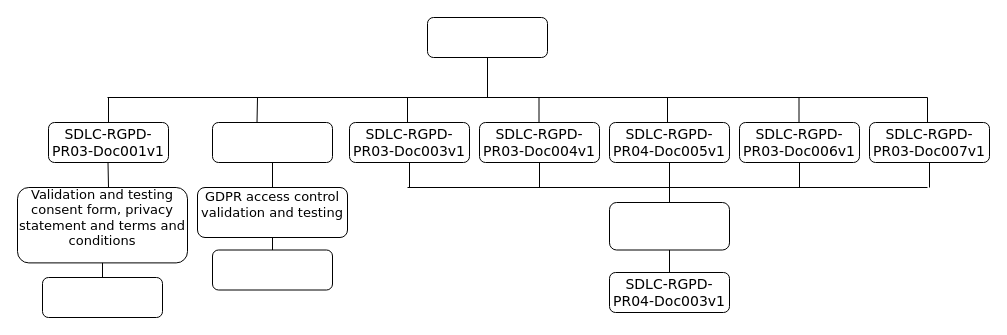
Some shapes in this 1007 by 335 pixel diagram are drawn without their labels. The box of each missing label's shape, as (x1, y1, x2, y2) in pixels:
SDLC-RGPD-PR03-Doc002v1: (212, 122, 332, 162)
SDLC-RGPD-PR04-Doc001v1: (42, 276, 162, 318)
SDLC-RGPD-PR04-Doc002v1: (212, 249, 332, 290)
Testing: (426, 16, 548, 58)
Validation and testing User rights: (608, 202, 730, 250)
